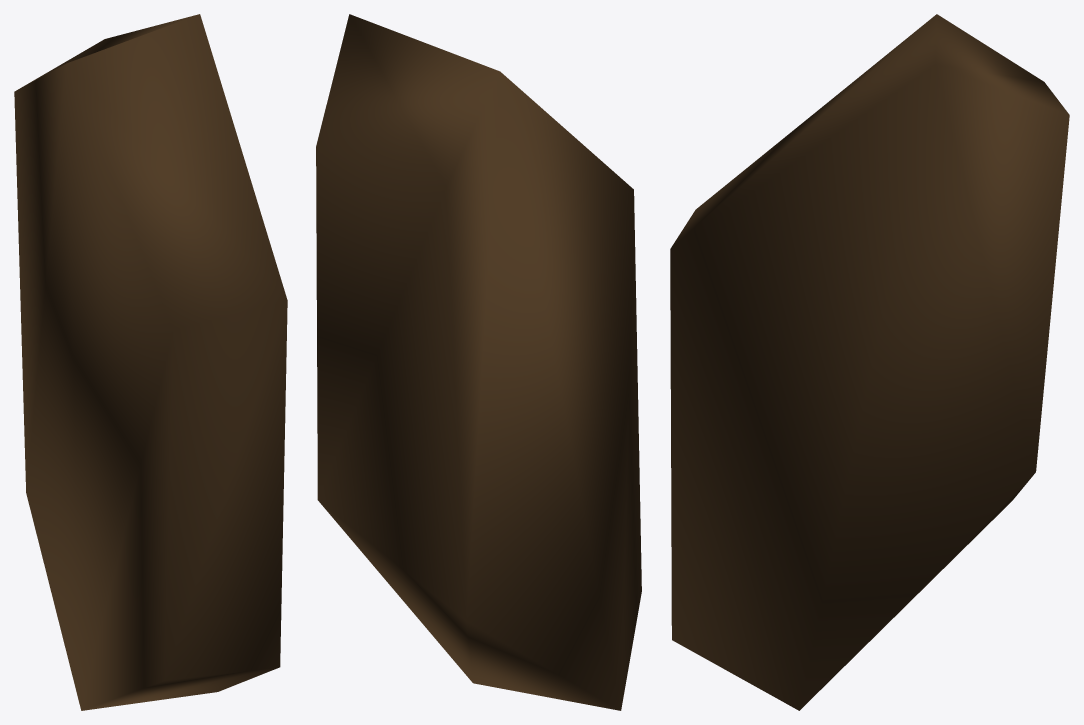
Rendered from vridro_fbx.fbx.
3 views of the same model, side by side, from view 1: azimuth 30°, elevation 25°; view 2: azimuth 150°, elevation 25°; view 3: azimuth 270°, elevation 25° (orthographic). The views are drawn at different scales.
Parts seen in each view (by area): view 1: Cerv_Top; view 2: Cerv_Top; view 3: Cerv_Top.
Boxes of the visible parts, x1=… form: Cerv_Top: x1=14, y1=14, x2=287, y2=710; Cerv_Top: x1=316, y1=14, x2=641, y2=710; Cerv_Top: x1=670, y1=14, x2=1069, y2=710.
Size of the model in its own units: 0.00674 by 0.0224 by 0.0121.
